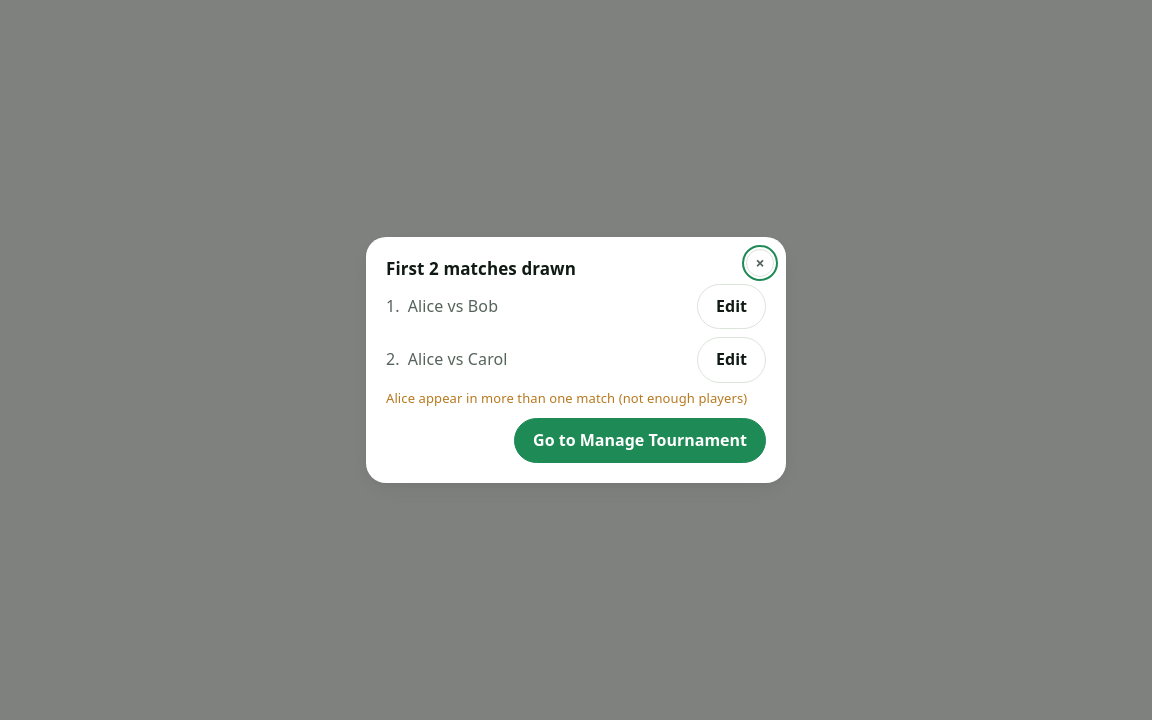
Test: FirstMatchDrawnPopup › shows the reuse warning only while the drafted matches really overlap, and re-derives it after an edit
Expected: the text "Alice appear in more than one match (not enough players)" is shown, [386,387,766,410]
Step 1. Click the button "Edit" in the row of "Alice vs Carol" → (732, 360), box [697,337,766,383]
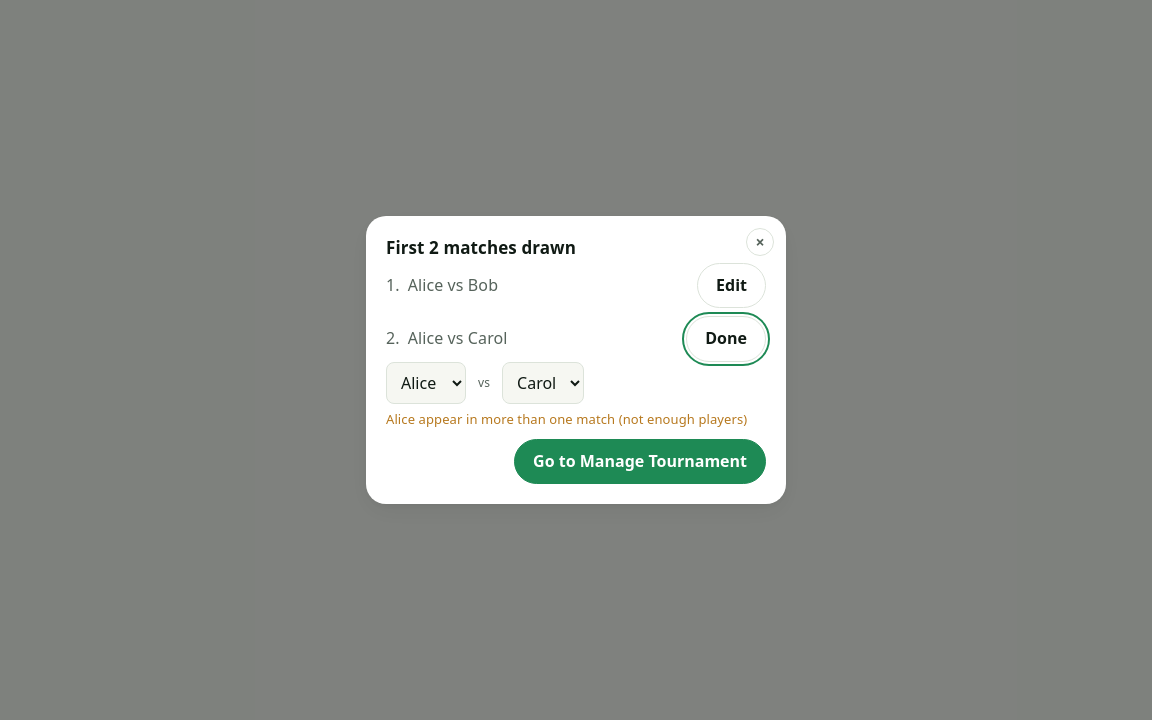
Step 2. Select "Eve" in the dropdown named "Team 1 player 1" → (426, 383), box [386,362,466,404]
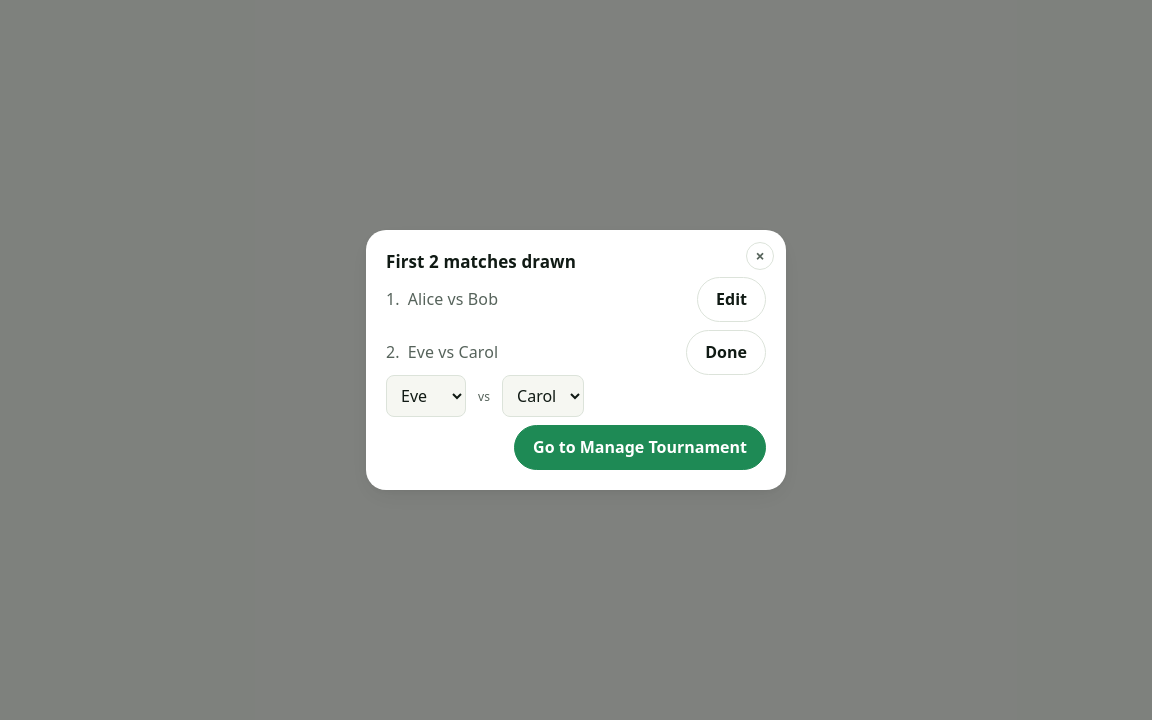
Result: the text "appear in more than one match" is gone
